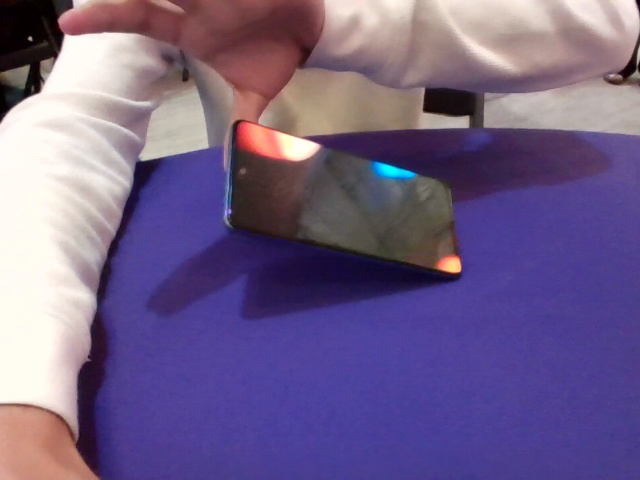celular: (223, 120, 459, 278)
